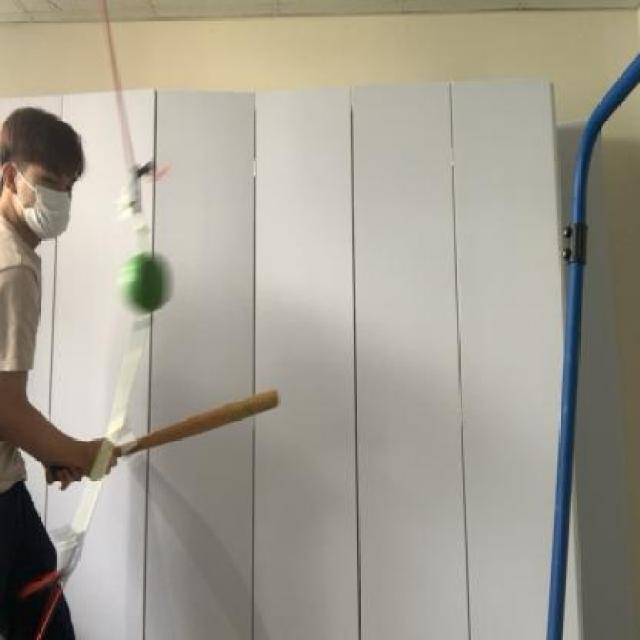baseball: (119, 249, 178, 316)
